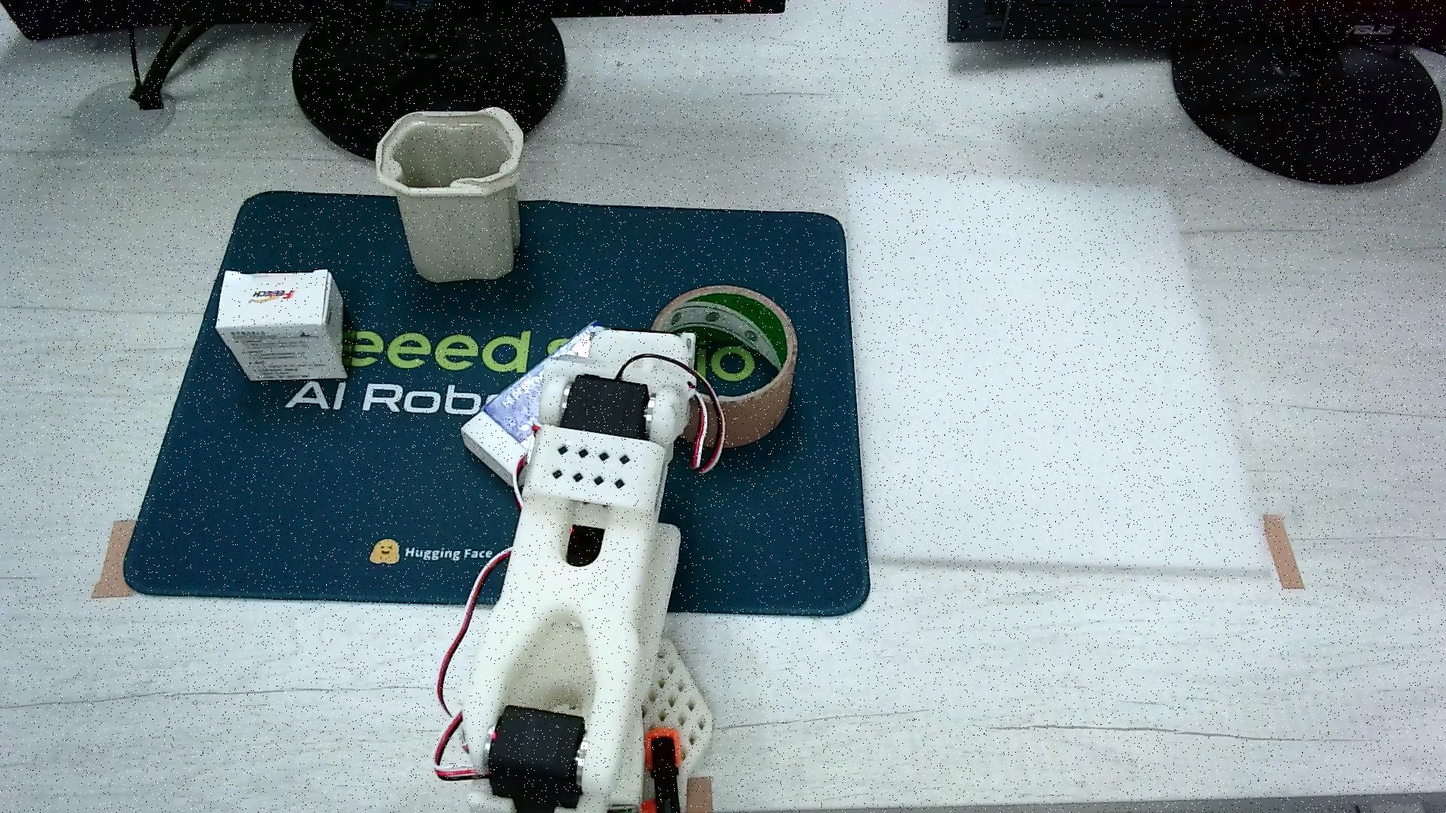eraser: (215, 269, 346, 380)
